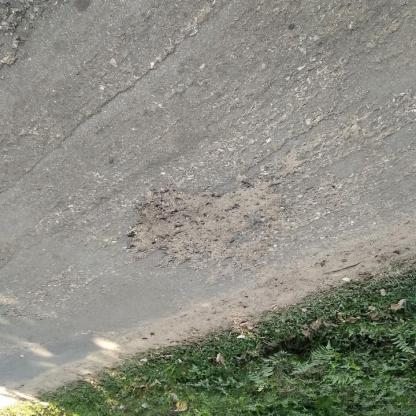pothole: (124, 181, 280, 273)
